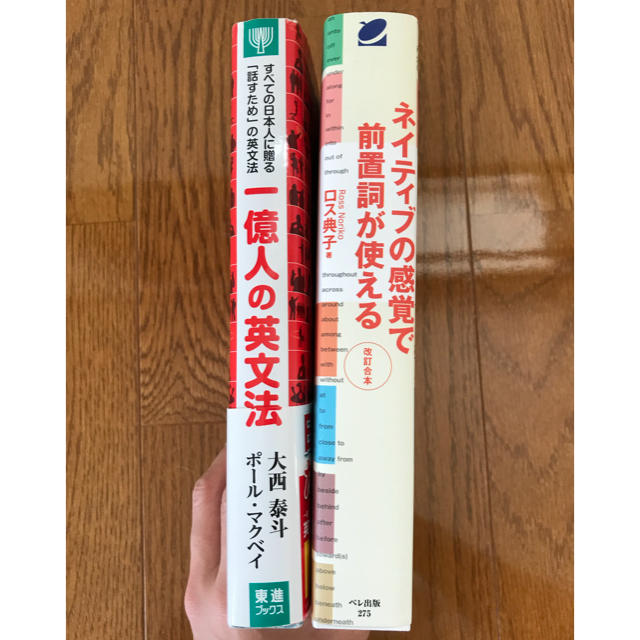book: (309, 5, 422, 636), (225, 13, 309, 635)
